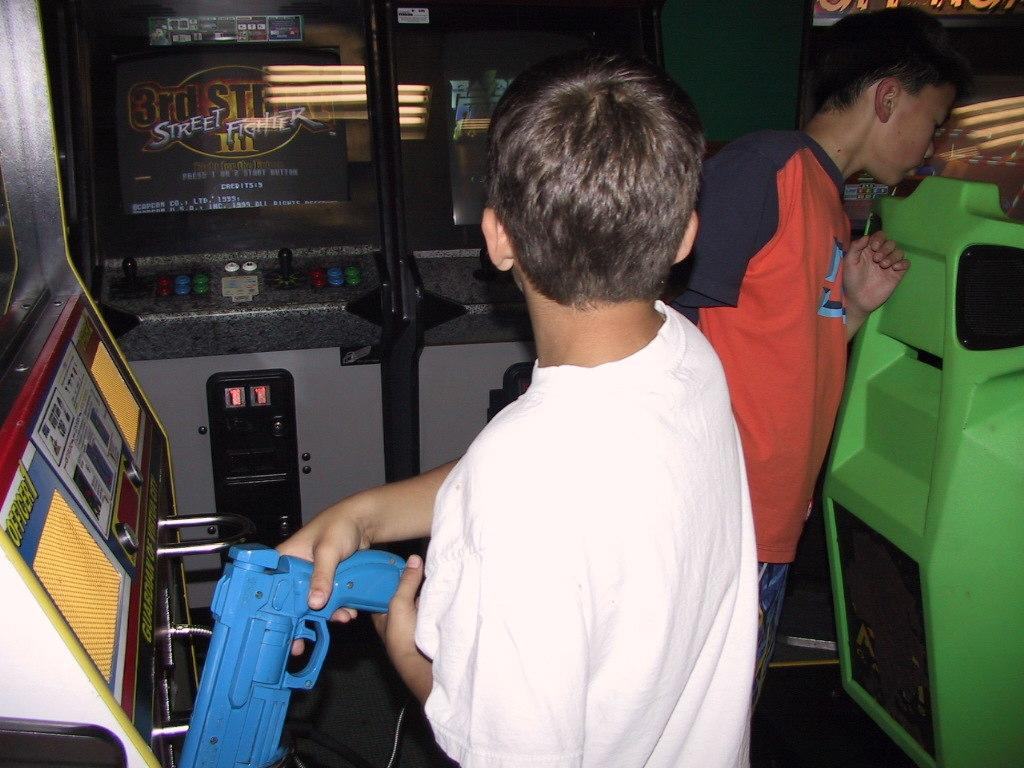non-violence: (272, 43, 759, 767), (664, 0, 969, 699)
weapon: (178, 537, 409, 767)
